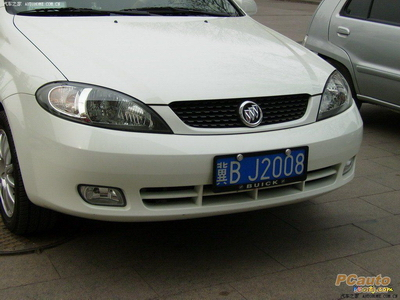plate_number: (214, 148, 307, 186)
